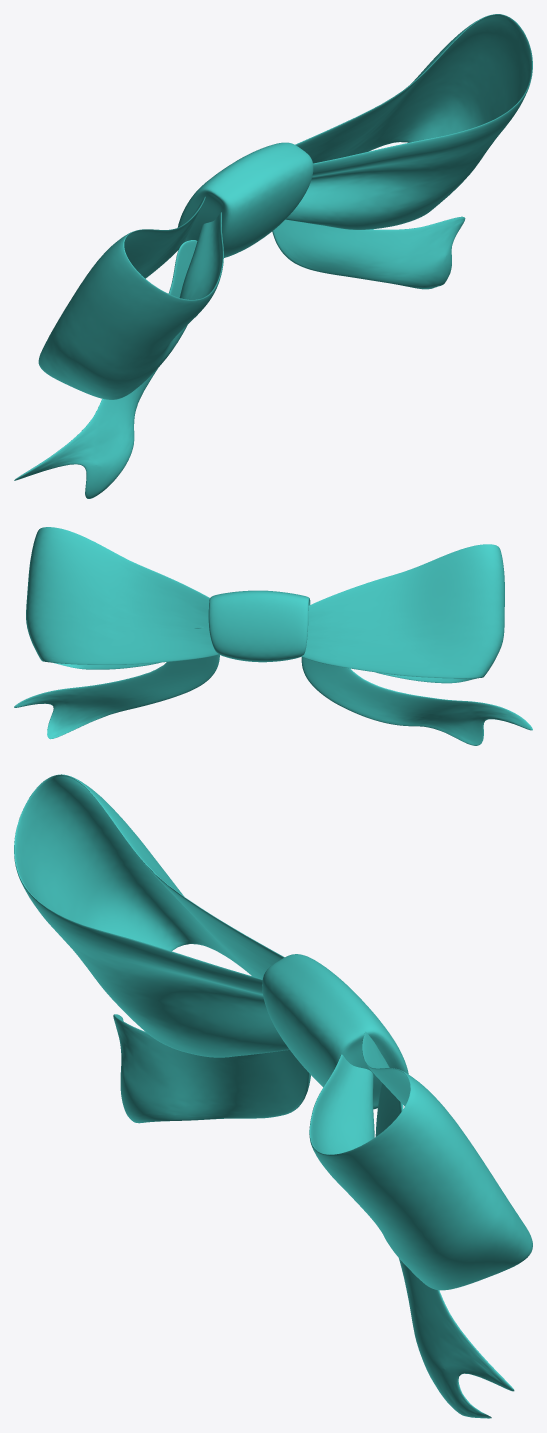
3 renders of one model, top to bottom at view 1: azimuth 30°, elevation 25°; view 2: azimuth 150°, elevation 25°; view 3: azimuth 270°, elevation 25°, orthographic. The views are drawn at different scales.
Visible parts, largest first — view 1: 348; view 2: 348; view 3: 348.
Part boxes in pixels (<box>): 348: <box>14,14,532,498</box>; 348: <box>14,527,532,745</box>; 348: <box>14,774,532,1418</box>.
Bounding box in the file's own units: 39.28 × 22.62 × 17.07.
